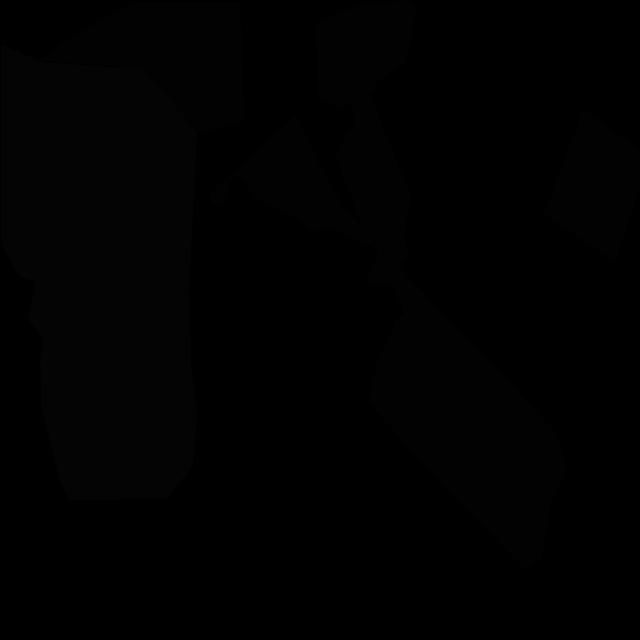cardboard: (209, 115, 568, 570), (38, 1, 244, 133), (544, 109, 640, 262), (334, 95, 412, 266), (316, 0, 416, 108)
soft_plastic: (1, 44, 197, 500)
